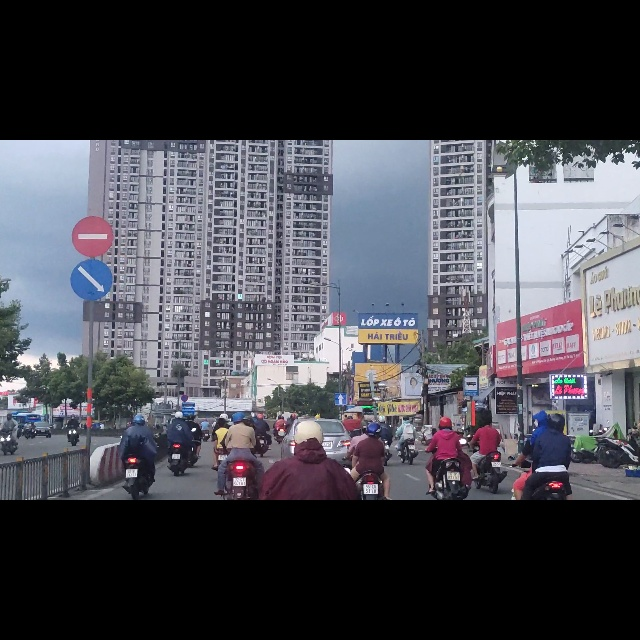bien_hieu_lenh: (70, 132, 115, 212), (69, 210, 113, 288), (463, 420, 480, 456), (335, 449, 347, 471)
